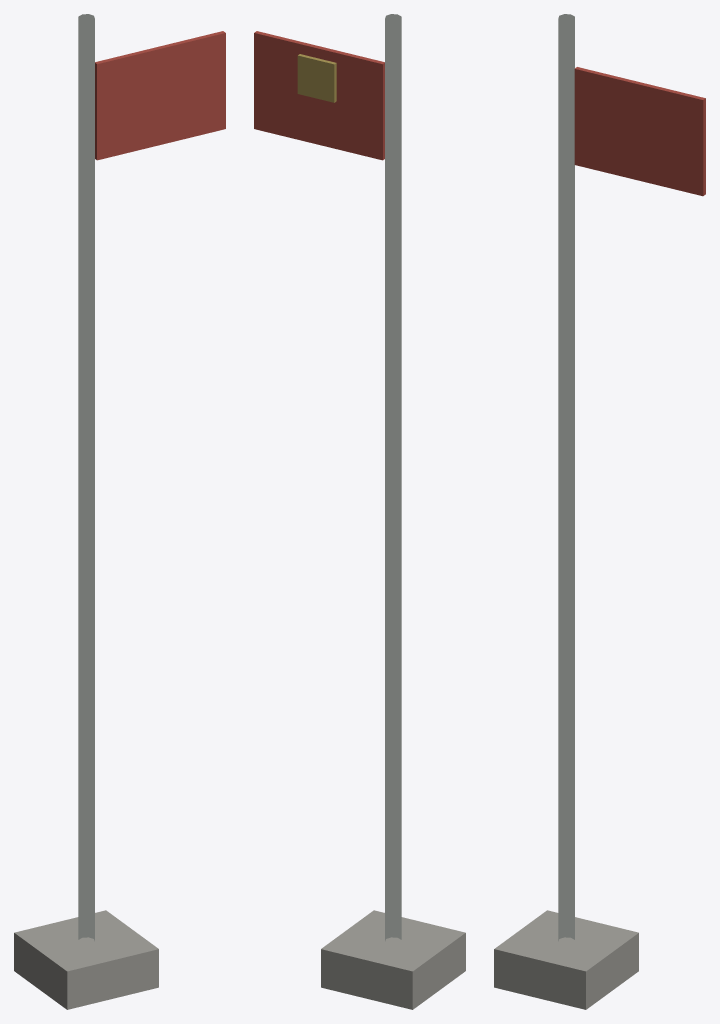
The model's file is i_flagpole.glb.
3 renders of one model, left to right at view 1: azimuth 30°, elevation 25°; view 2: azimuth 150°, elevation 25°; view 3: azimuth 330°, elevation 25°, orthographic.
Visible parts, largest first — view 1: body; view 2: body; view 3: body.
Boxes of the visible parts, x1,y1,x2,y2 form: body: [14, 14, 225, 1009]; body: [254, 14, 465, 1009]; body: [494, 14, 705, 1009].
Bounding box in the file's own units: 2 × 10 × 1.
